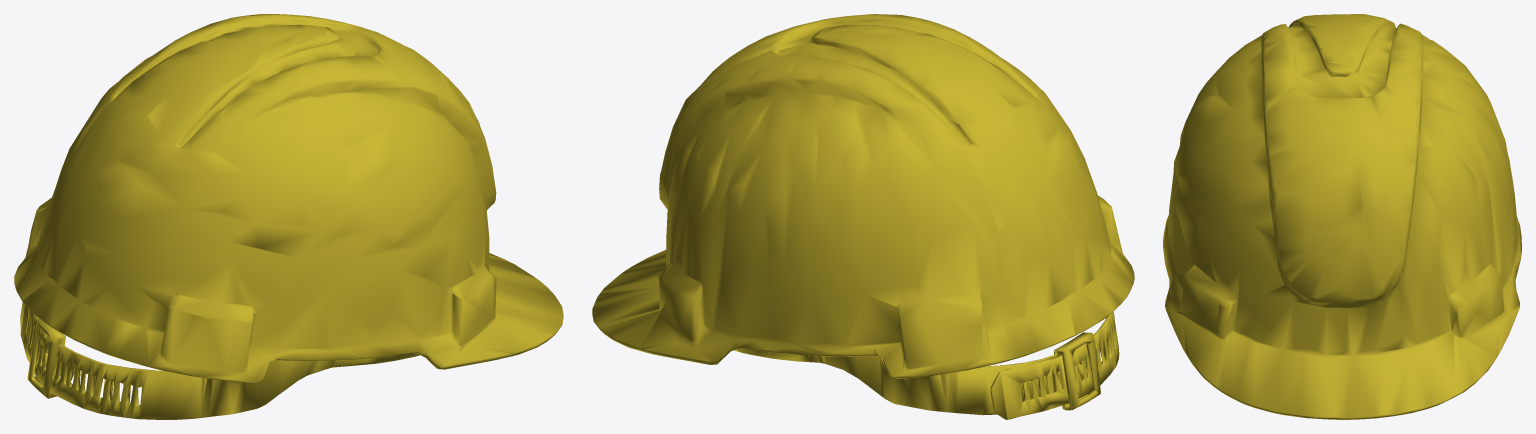
Rendered from hardhat.glb.
The picture shows the model from 3 angles, left to right: view 1: azimuth 30°, elevation 25°; view 2: azimuth 150°, elevation 25°; view 3: azimuth 270°, elevation 25°; orthographic projection. The views are drawn at different scales.
Parts seen in each view (by area): view 1: geometry_0; view 2: geometry_0; view 3: geometry_0.
Part boxes in pixels (x1=…): geometry_0: x1=14, y1=14, x2=563, y2=419; geometry_0: x1=592, y1=14, x2=1134, y2=419; geometry_0: x1=1163, y1=14, x2=1521, y2=419.
Bounding box in the file's own units: 0.2898 × 0.1735 × 0.2077.
